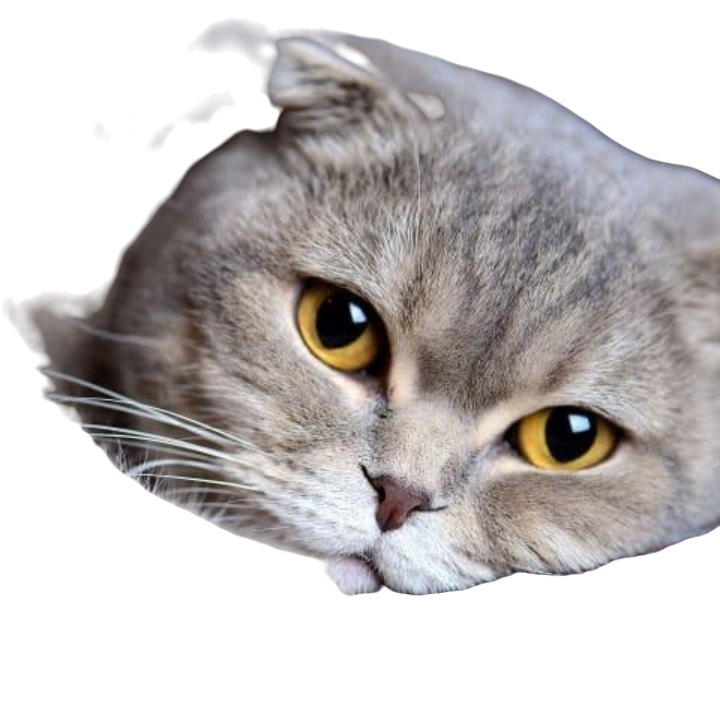Cat: (23, 10, 719, 602)
